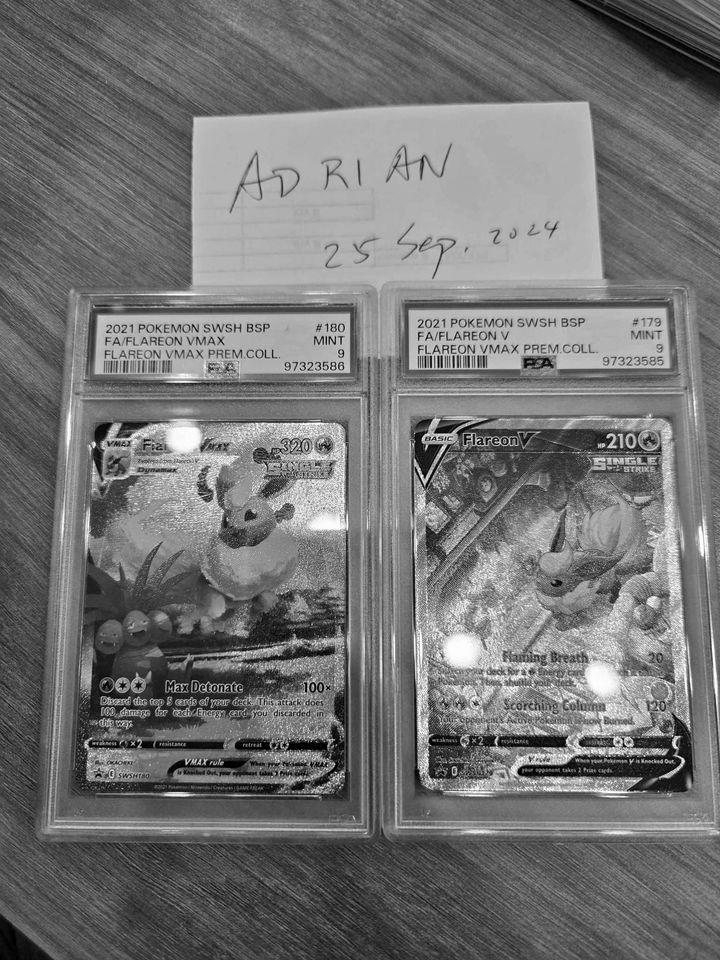card: (412, 418, 694, 794), (75, 422, 347, 794)
